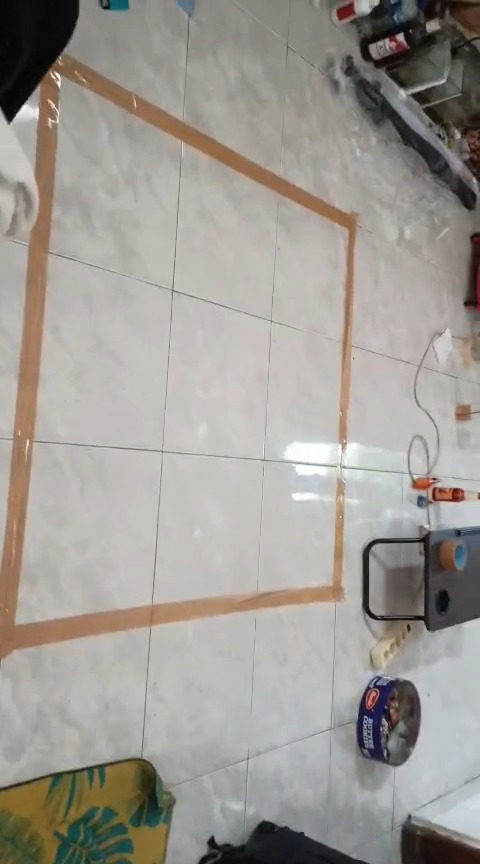floor marking: (0, 56, 355, 657)
